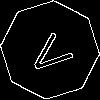V: (25, 25, 82, 81)
